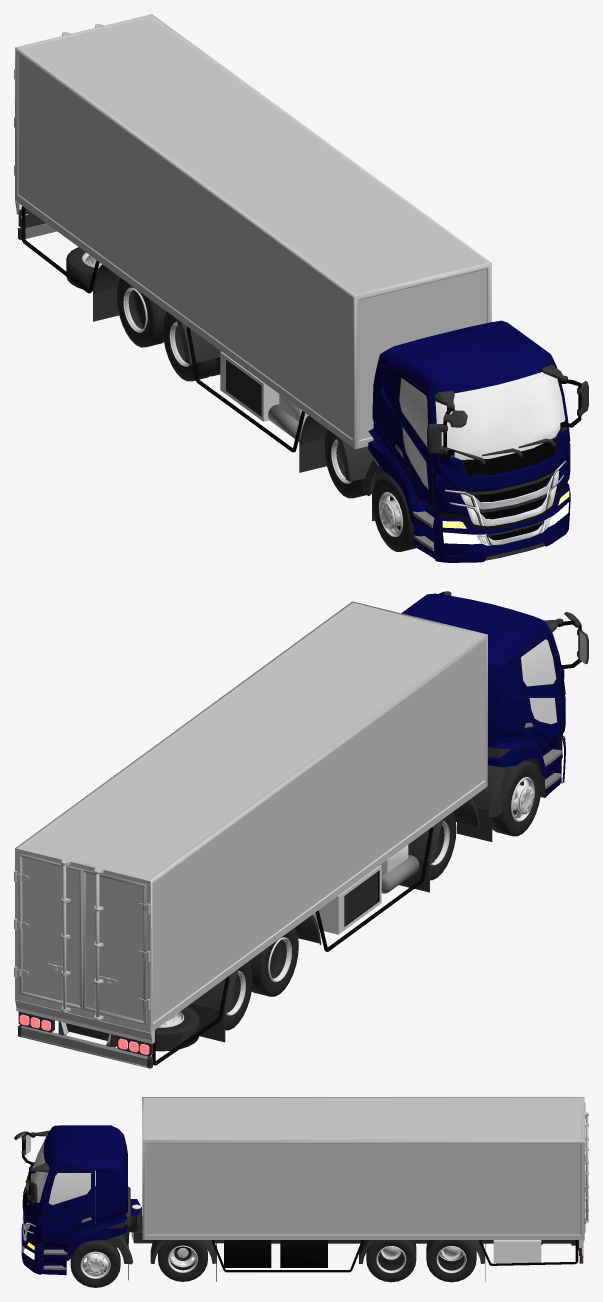
Rendered from truck_opt.glb.
3 renders of one model, top to bottom at view 1: azimuth 30°, elevation 25°; view 2: azimuth 150°, elevation 25°; view 3: azimuth 270°, elevation 25°, orthographic. The views are drawn at different scales.
Visible parts, largest first — view 1: Object_6, wheels_Circle.006_20, wheels_Circle.010_18, wheels_Circle.028_11, Object_9; view 2: Object_6, wheels_Circle.010_18, wheels_Circle.006_20, wheels_Circle.028_11; view 3: Object_6, wheels_Circle.008_23, wheels_Circle.013_26, wheels_Circle.025_15, wheels_Circle.024_14, wheels_Circle.014_27, wheels_Circle.012_24.
Part boxes in pixels (x1,y1,x2,y2): Object_6: [14, 14, 588, 562]; wheels_Circle.006_20: [116, 278, 166, 347]; wheels_Circle.010_18: [163, 312, 220, 381]; wheels_Circle.028_11: [324, 430, 366, 498]; Object_9: [443, 476, 568, 545]; Object_6: [14, 591, 588, 1068]; wheels_Circle.010_18: [249, 928, 298, 996]; wheels_Circle.006_20: [225, 961, 252, 1030]; wheels_Circle.028_11: [430, 812, 456, 880]; Object_6: [14, 1097, 588, 1287]; wheels_Circle.008_23: [366, 1240, 416, 1282]; wheels_Circle.013_26: [426, 1240, 476, 1282]; wheels_Circle.025_15: [158, 1240, 207, 1281]; wheels_Circle.024_14: [168, 1245, 197, 1272]; wheels_Circle.014_27: [436, 1246, 466, 1273]; wheels_Circle.012_24: [376, 1246, 406, 1273].
Size of the model in its own units: 3.45 by 4.51 by 15.91.
Materials: 4 (4 with a texture image).
